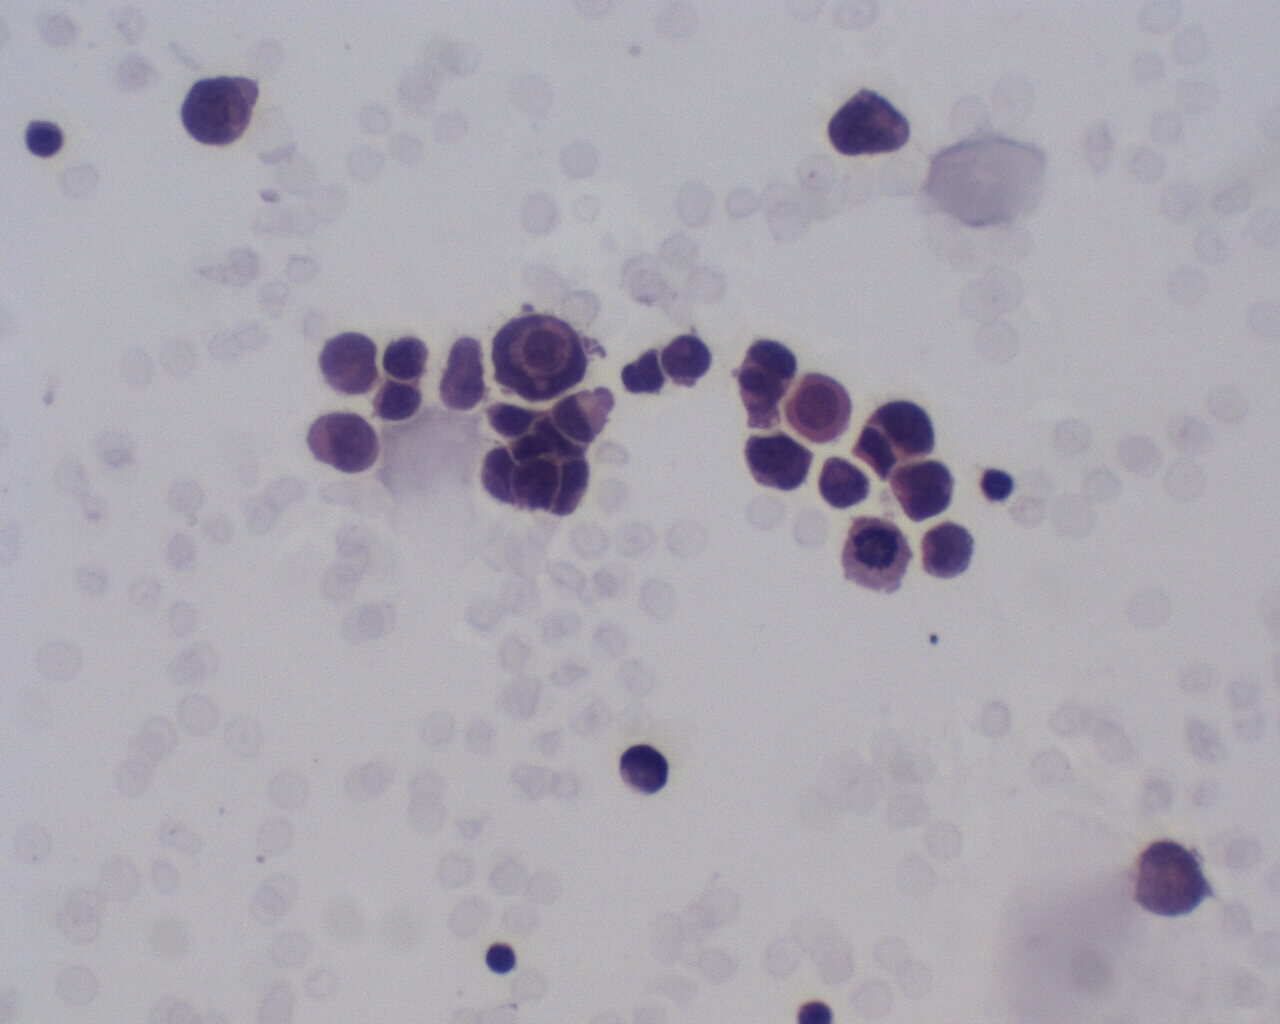ab: (181, 70, 264, 149), (857, 397, 936, 479), (829, 87, 912, 159), (305, 408, 377, 478), (742, 429, 817, 494), (890, 459, 958, 522), (921, 516, 977, 579), (662, 327, 717, 390), (619, 741, 674, 801), (818, 457, 871, 515)
lymph: (979, 467, 1017, 506), (483, 941, 523, 976)
meso: (788, 370, 855, 444)
